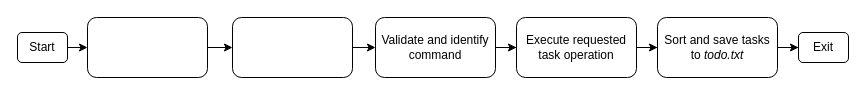
Image size: 866x95. Some labels were removed from this diagram. Here are the shapes that lost their labels. From the top down, the centre of each, then its label:
At (147,47): "Load tasks from todo.txt".
At (292,47): "Read command-line arguments".
